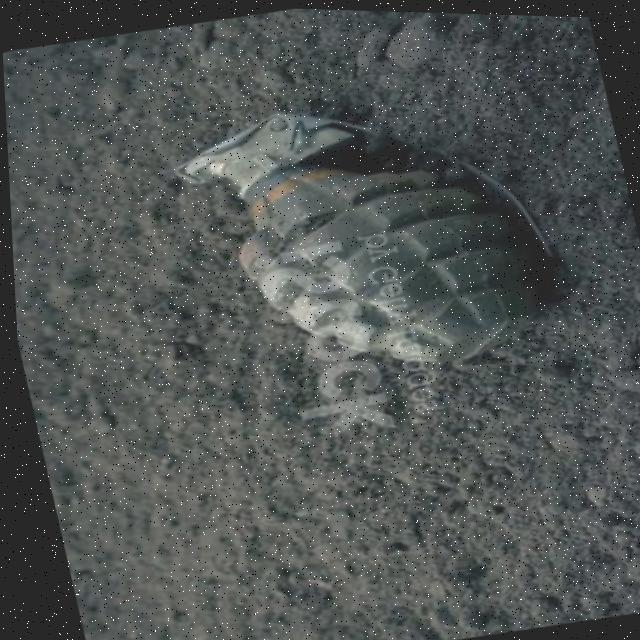grenade: (159, 47, 584, 420)
